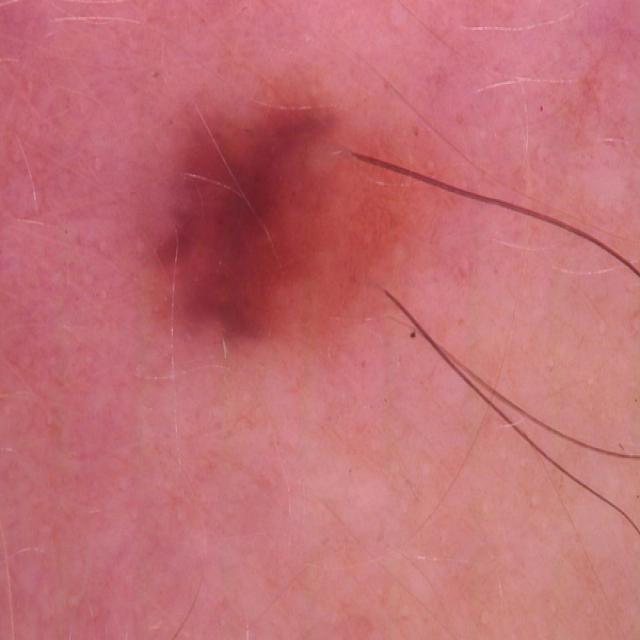NV: (145, 74, 404, 343)
